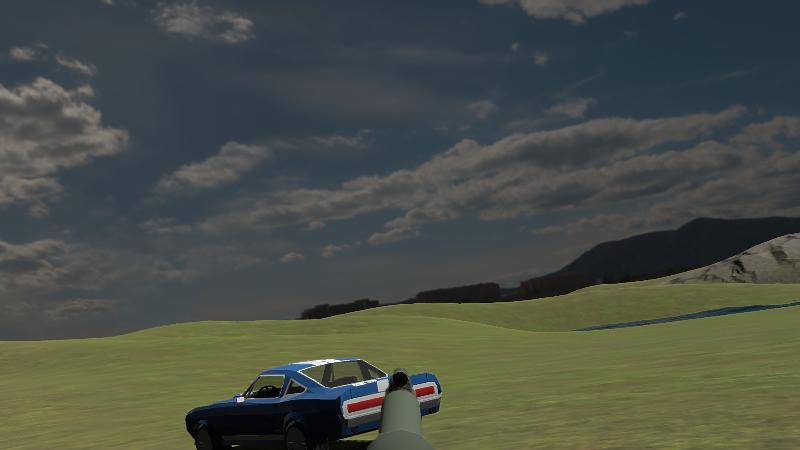car: (181, 354, 443, 449)
